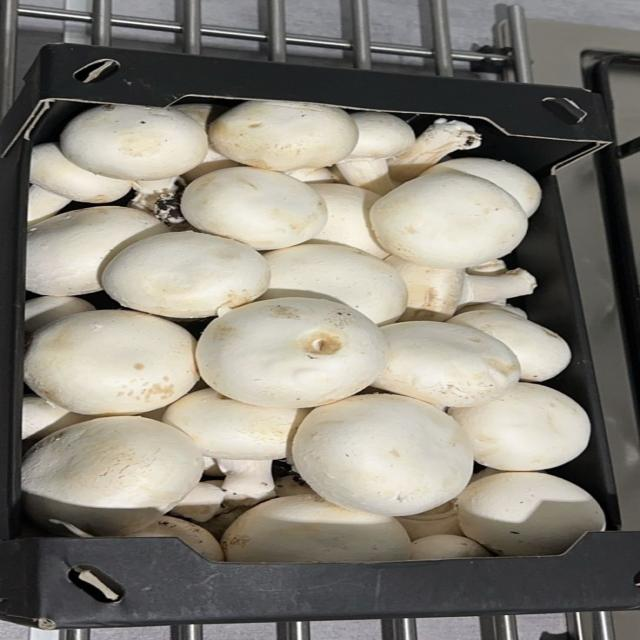champignon mushrooms: (293, 394, 473, 516), (22, 416, 201, 535), (197, 298, 386, 408), (25, 311, 198, 414), (370, 172, 526, 268), (101, 231, 269, 318), (27, 206, 167, 296), (221, 496, 411, 562), (374, 321, 519, 407), (450, 383, 590, 471), (457, 473, 605, 555), (181, 167, 326, 250), (261, 244, 407, 325), (60, 105, 207, 180), (209, 101, 358, 171), (163, 389, 306, 460), (385, 256, 536, 321), (448, 311, 571, 381), (427, 158, 541, 216), (337, 112, 415, 194), (30, 143, 132, 203), (308, 184, 388, 259), (388, 118, 481, 182), (117, 516, 224, 561), (127, 516, 224, 561), (22, 395, 87, 440), (217, 459, 275, 506), (25, 296, 94, 333), (397, 502, 461, 540), (171, 480, 225, 522), (412, 534, 492, 559), (182, 147, 238, 182), (182, 149, 238, 183), (127, 177, 179, 213), (200, 505, 251, 540), (27, 185, 71, 225), (173, 103, 227, 131), (457, 301, 526, 319), (275, 475, 314, 497), (285, 167, 337, 183), (466, 259, 507, 275), (203, 457, 223, 478)
